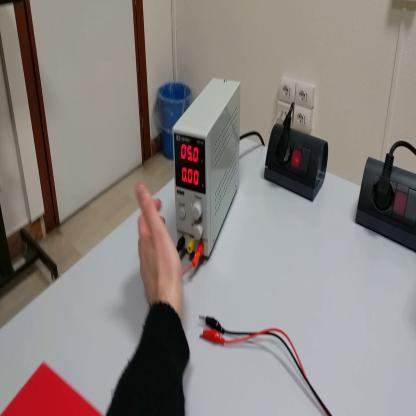hand: (135, 186, 185, 314)
power supply: (172, 82, 242, 266)
register: (2, 364, 102, 415)
socket: (352, 153, 416, 253), (266, 127, 330, 202)
